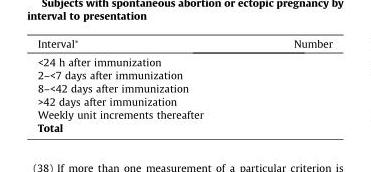table: (36, 36, 331, 133)
table column: (36, 36, 247, 133), (247, 36, 331, 133)
table column header: (36, 36, 331, 52)
table projected row header: (36, 52, 331, 68), (36, 68, 331, 81), (36, 81, 331, 94), (36, 94, 331, 107), (36, 107, 331, 120)
table row: (36, 36, 331, 52), (36, 52, 331, 68), (36, 68, 331, 81), (36, 81, 331, 94), (36, 94, 331, 107), (36, 107, 331, 120), (36, 120, 331, 133)
